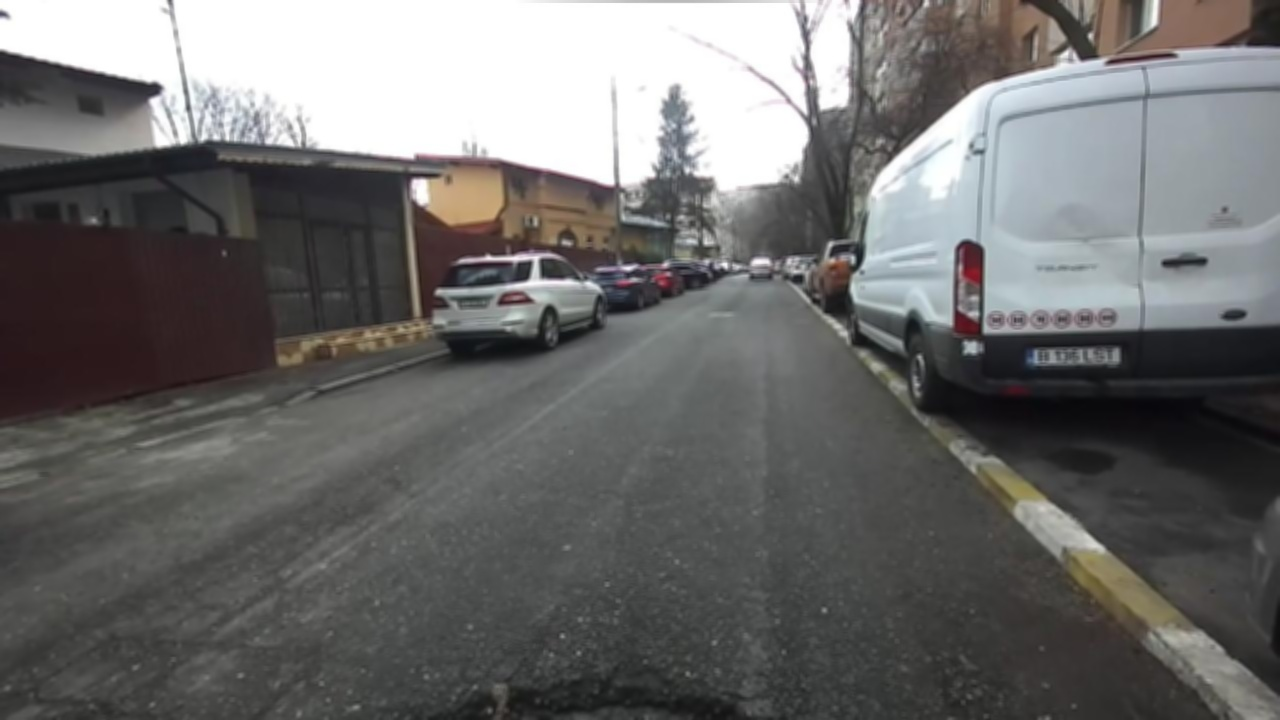pothole: (396, 668, 780, 718)
